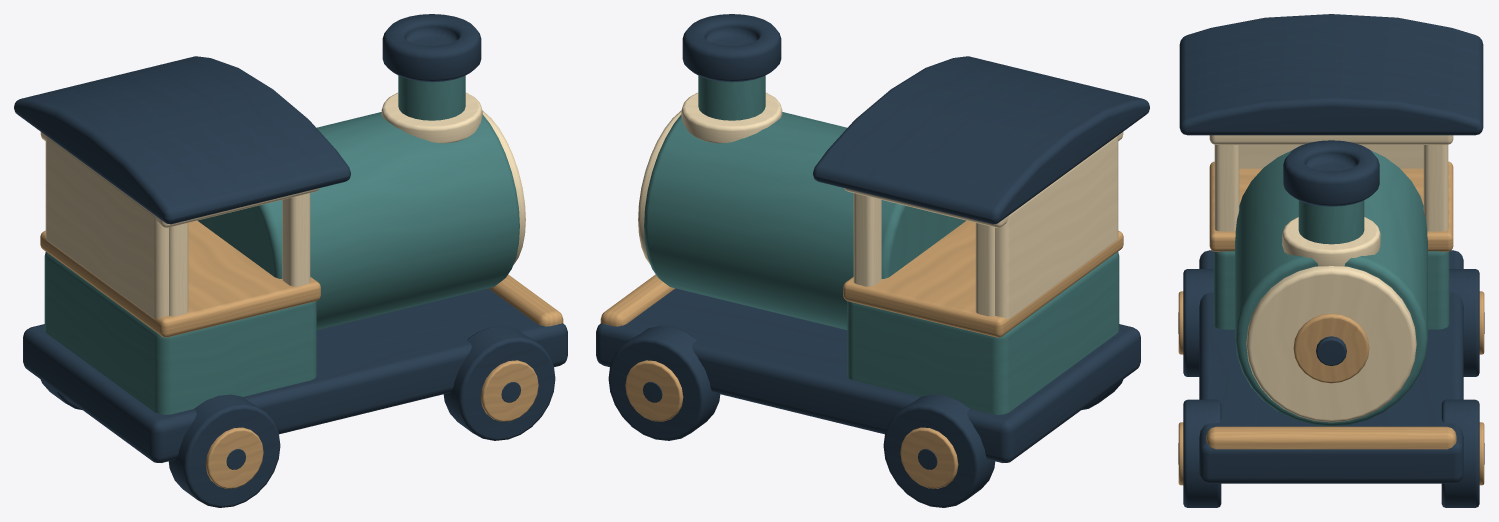
File: original-toy-engine.glb
3 views of the same model, side by side, from view 1: azimuth 30°, elevation 25°; view 2: azimuth 150°, elevation 25°; view 3: azimuth 270°, elevation 25° (orthographic). The views are drawn at different scales.
Visible parts, largest first — view 1: EngineBody, RunningGear; view 2: EngineBody, RunningGear; view 3: EngineBody, RunningGear.
Part boxes in pixels (x1,y1,x2,y2): EngineBody: [14, 14, 525, 414]; RunningGear: [23, 274, 567, 507]; EngineBody: [638, 14, 1149, 414]; RunningGear: [596, 274, 1140, 507]; EngineBody: [1179, 14, 1483, 426]; RunningGear: [1178, 250, 1484, 507].
Bounding box in the file's own units: 0.458 × 0.37 × 0.299.
Materials: 1 (1 with a texture image).
